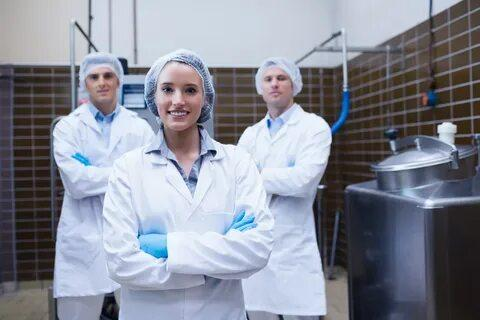hairnet: (142, 45, 223, 135), (244, 51, 319, 121), (65, 49, 126, 116)
